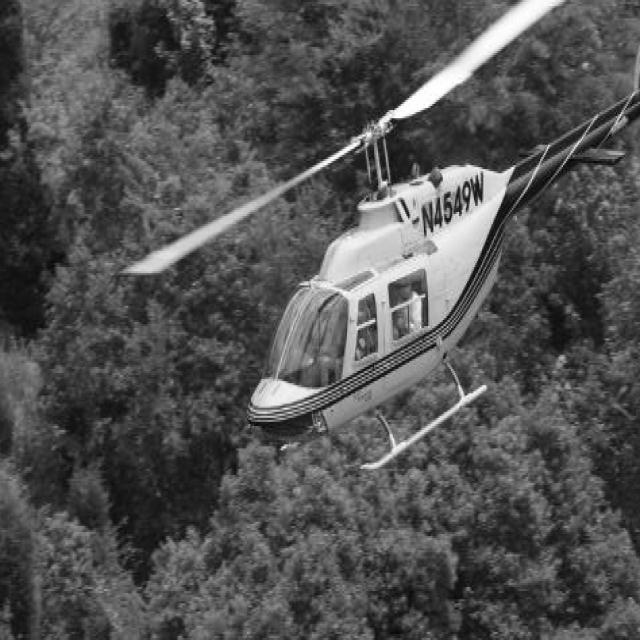helicopter: (114, 1, 640, 500)
